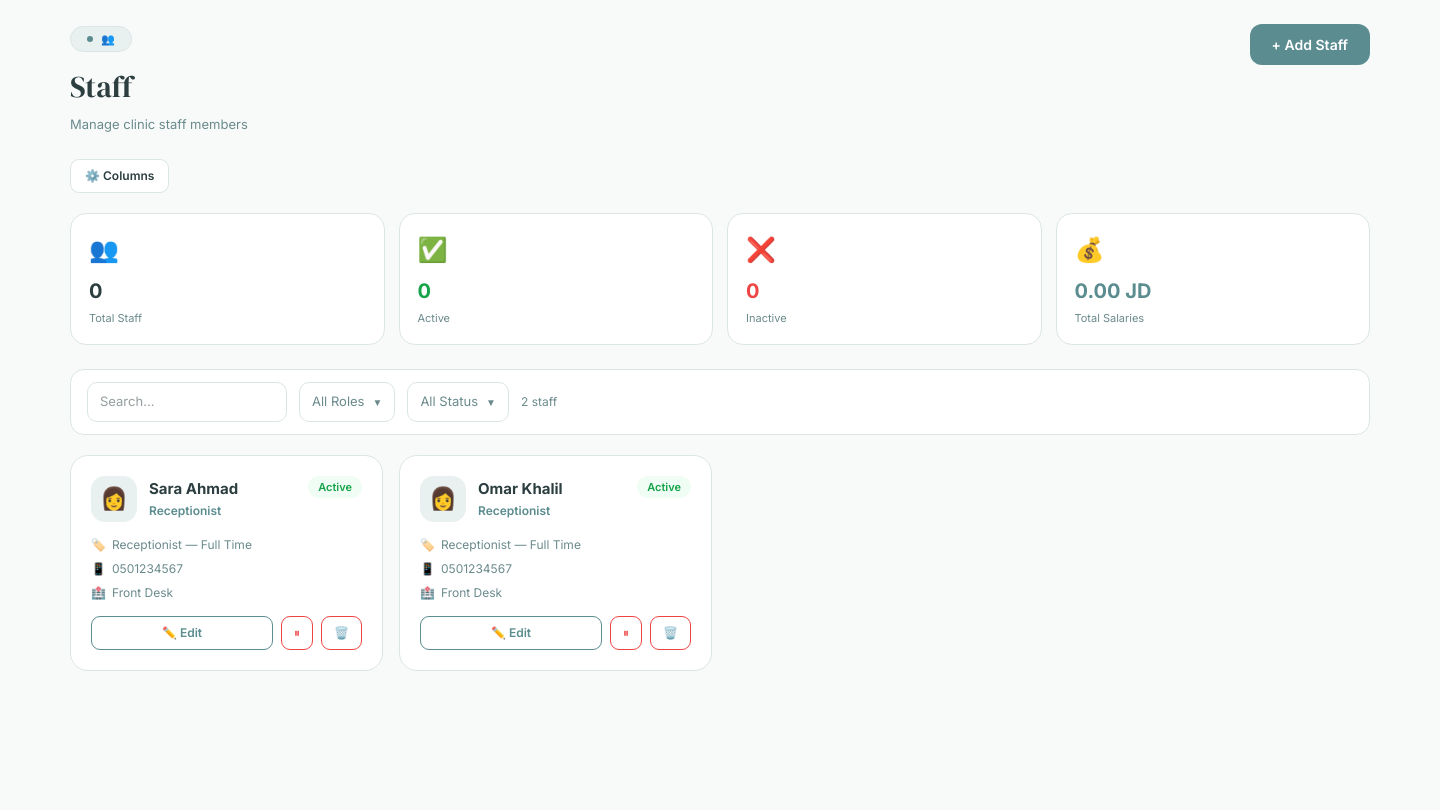
Test case: Staff › filters the list by name as the user types
Expected: the text "Sara Ahmad" is shown, [149,478,238,500]
Type "Omar" into the field with placeholder "Search...". click: (187, 402)
box: [87,382,287,422]
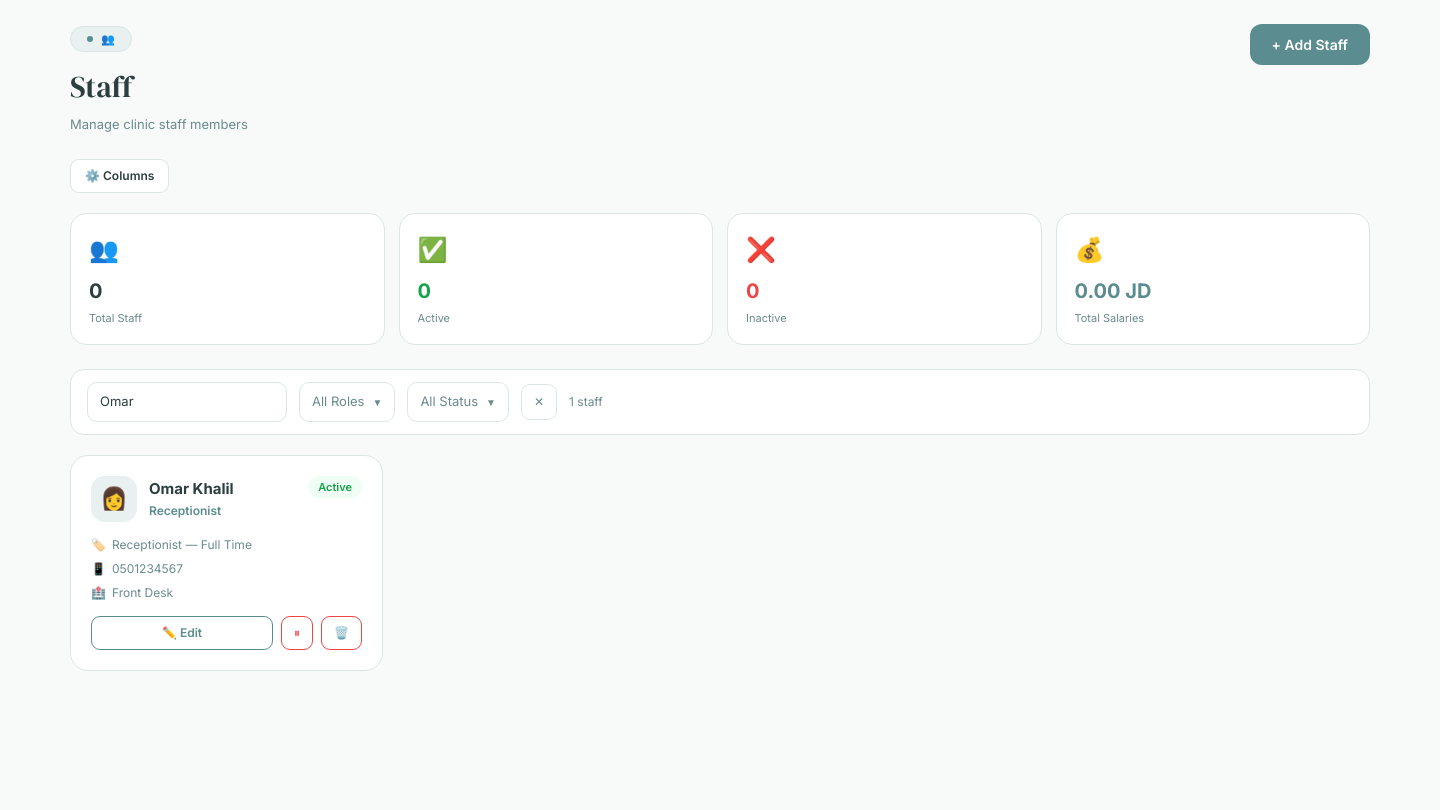
Expected: the text "Omar Khalil" is shown, [149,478,234,500]
Expected: the text "Sara Ahmad" is gone
